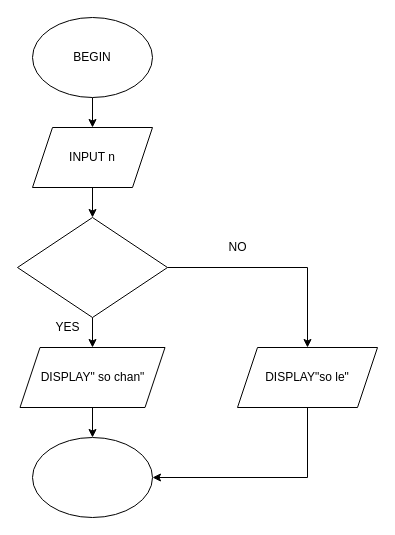
This 395x535 diagram has some shape labels left out. The box of each missing label's shape, as (x1, y1, x2, y2) in pixels:
END: (32, 436, 152, 518)
IF n%2=0: (16, 216, 168, 318)
